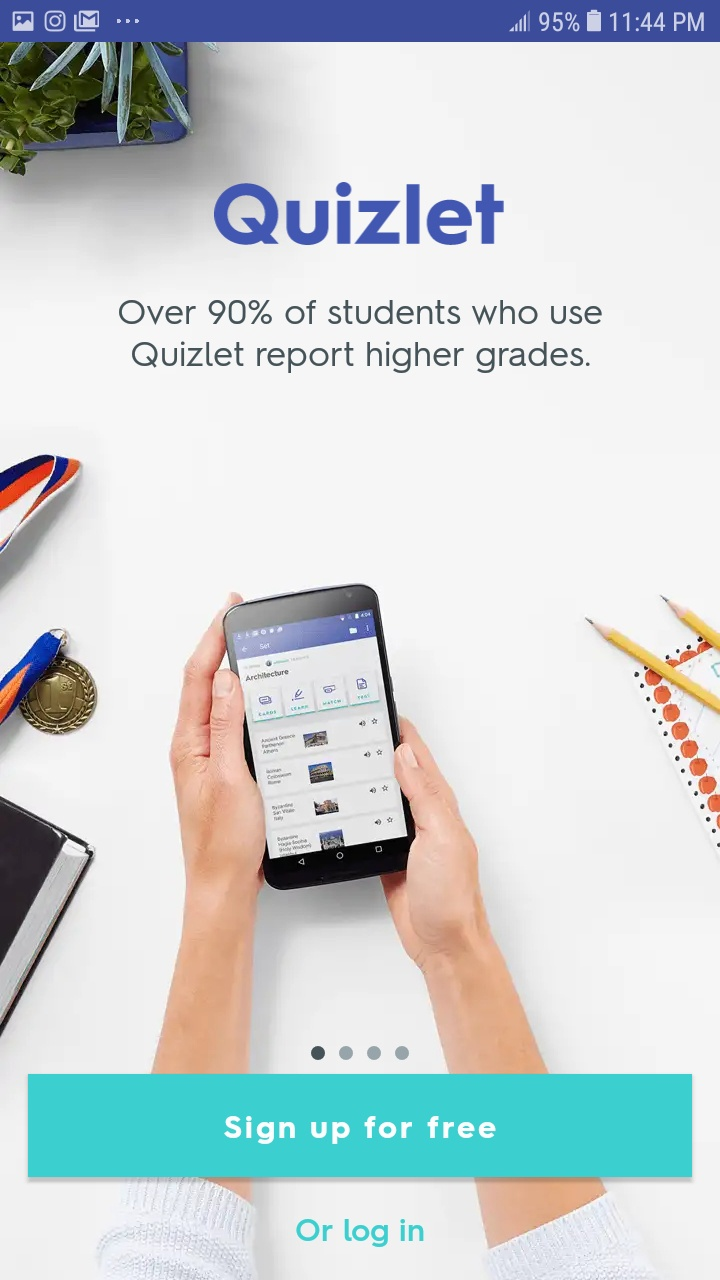BackgroundImage: (1, 43, 720, 1280)
PageIndicator: (310, 1045, 410, 1061)
Text: (119, 300, 602, 374), (214, 182, 505, 247), (297, 1219, 425, 1248)
TextButton: (28, 1074, 692, 1178)
UpperTaskBar: (1, 1, 720, 43)
